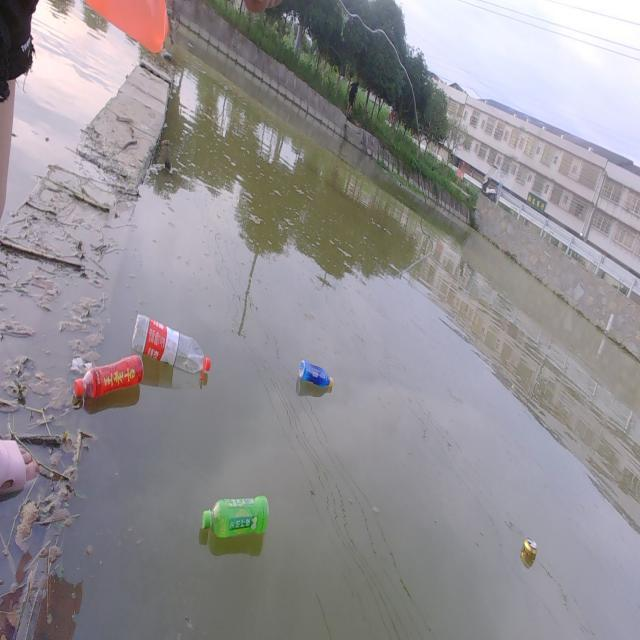bottle: (125, 296, 232, 392), (186, 481, 278, 547), (70, 352, 150, 414), (286, 341, 341, 400)
